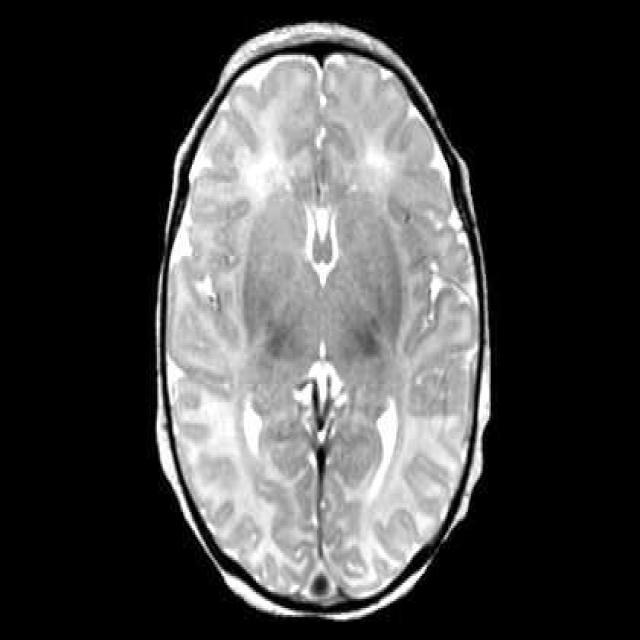notumor: (154, 23, 494, 624)
